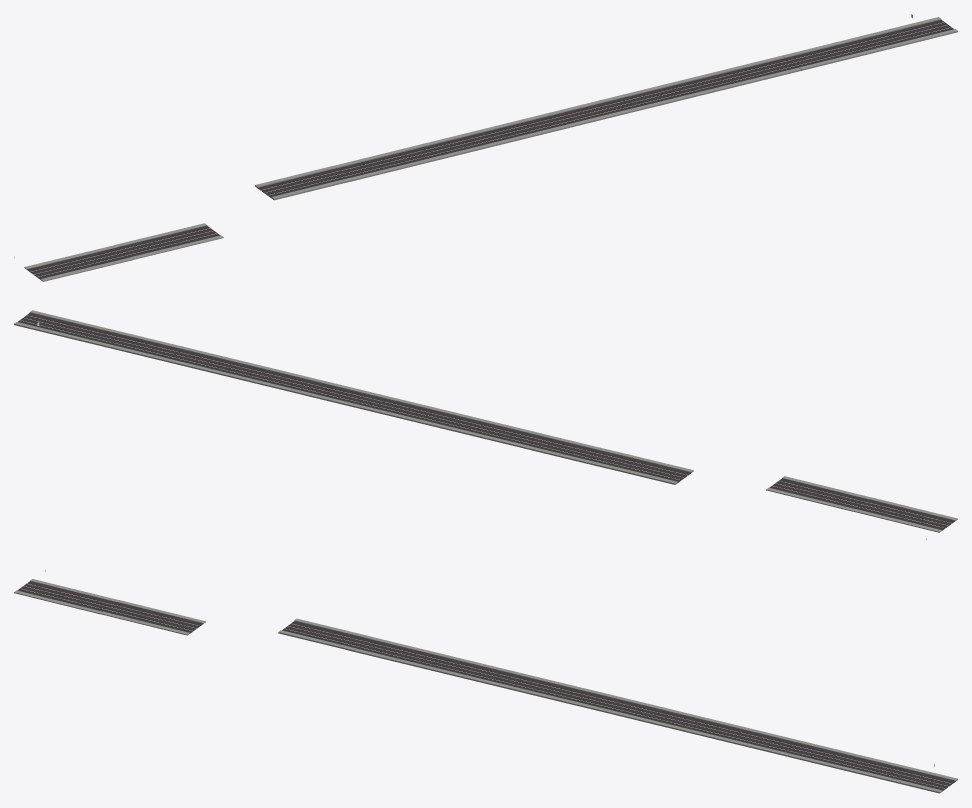
3 renders of one model, top to bottom at view 1: azimuth 30°, elevation 25°; view 2: azimuth 150°, elevation 25°; view 3: azimuth 330°, elevation 25°, orthographic. The views are drawn at different scales.
Parts seen in each view (by area): view 1: Geom3D (×22); view 2: Geom3D (×22); view 3: Geom3D (×22).
Boxes of the visible parts, x1,y1,x2,y2 form: Geom3D (×22): (24,17,957,281); Geom3D (×22): (14,310,957,532); Geom3D (×22): (14,579,957,793).
Bounding box in the file's own units: 638 × 8.73 × 51.64.
25 materials, 2 textured.
